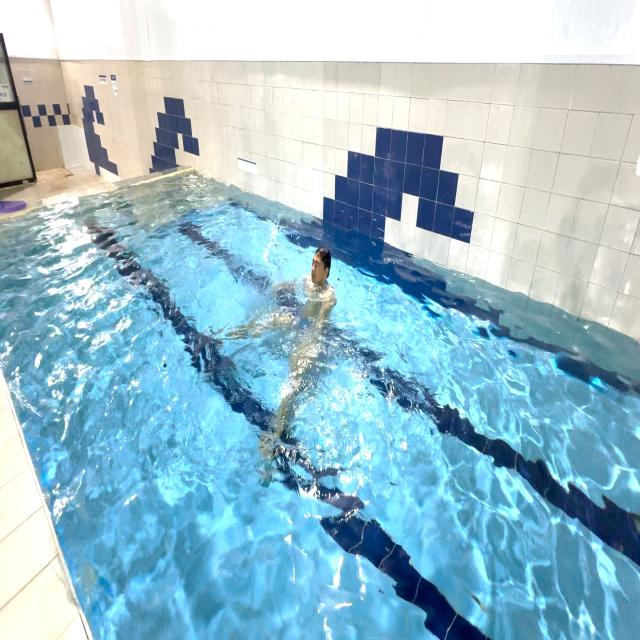Drowning: (258, 246, 338, 393)
